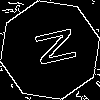N: (25, 25, 77, 70)
